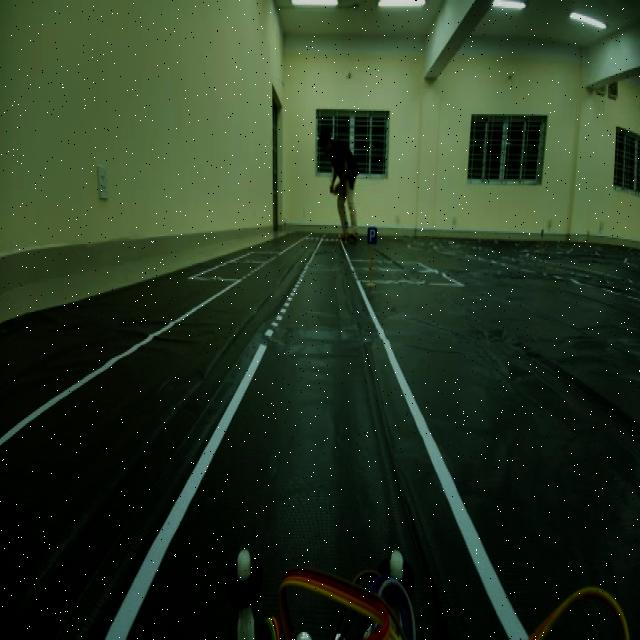parking: (364, 220, 379, 246)
